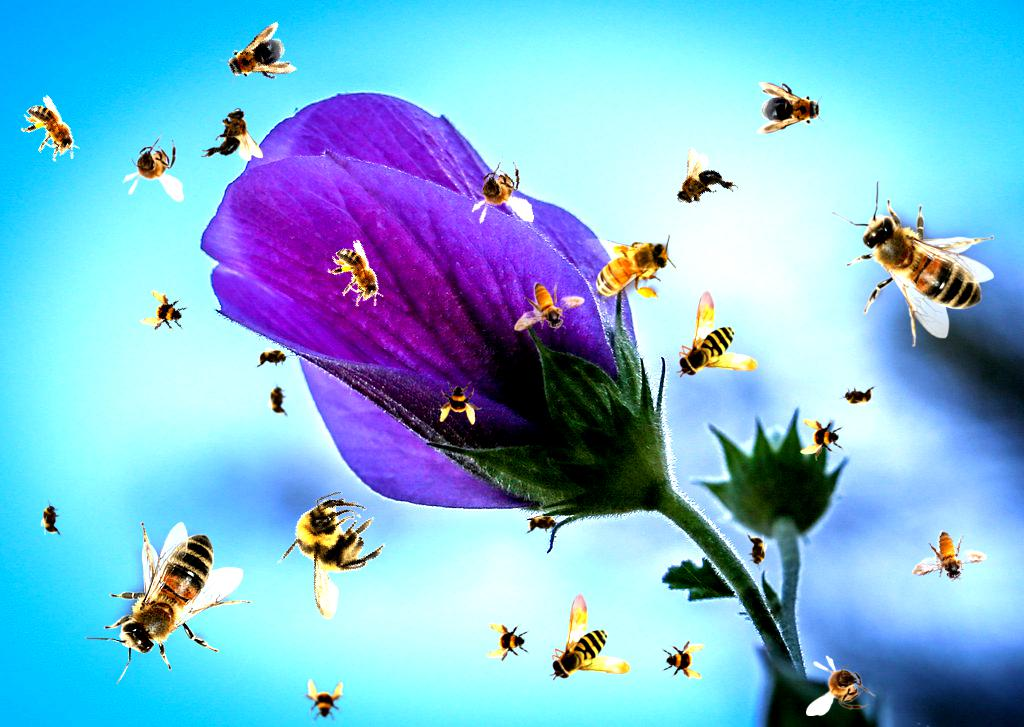Bee: (85, 522, 252, 684), (832, 180, 994, 347), (260, 481, 405, 630), (676, 290, 758, 378), (549, 593, 631, 681), (659, 144, 742, 226), (215, 21, 299, 97), (583, 234, 676, 302), (13, 93, 91, 172), (320, 237, 396, 318), (462, 152, 535, 232), (911, 526, 991, 589), (121, 131, 184, 203), (806, 655, 876, 716), (514, 282, 585, 332), (757, 82, 825, 134), (201, 108, 263, 161), (138, 287, 192, 341), (301, 679, 345, 723), (438, 381, 482, 425), (486, 621, 530, 665), (661, 637, 705, 681), (800, 417, 844, 461), (267, 380, 289, 420), (746, 531, 768, 571), (253, 347, 293, 369), (523, 513, 563, 535), (838, 385, 878, 407), (40, 499, 62, 539)
